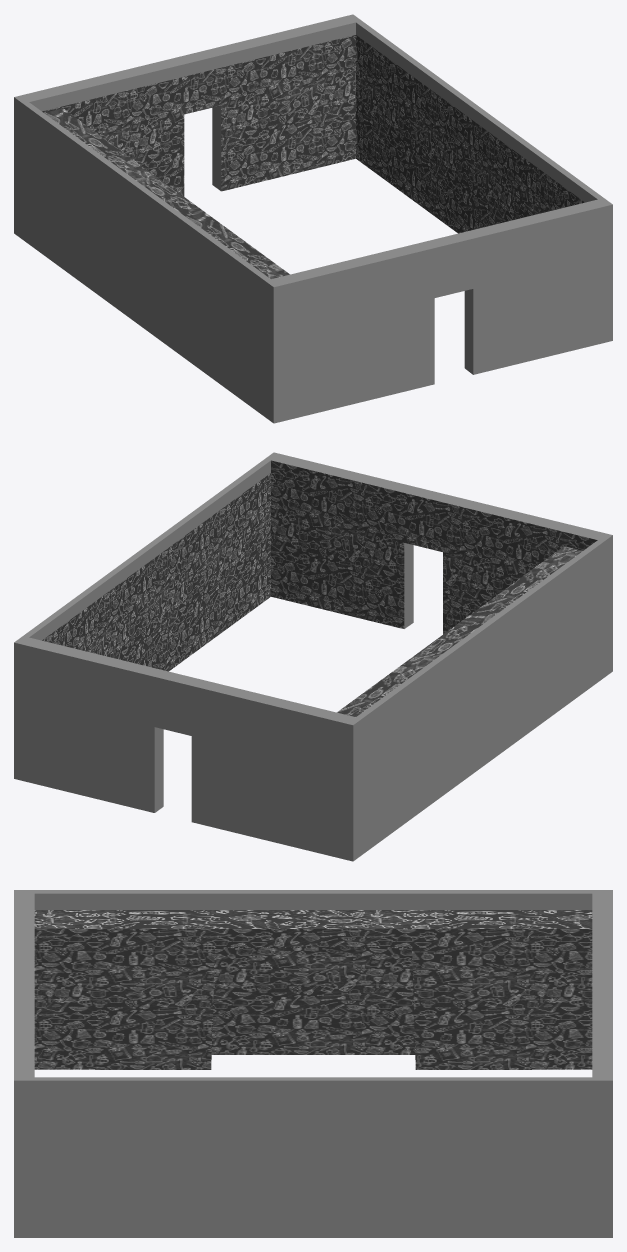
The model's file is room walls 1.FBX.
The picture shows the model from 3 angles, top to bottom: view 1: azimuth 30°, elevation 25°; view 2: azimuth 150°, elevation 25°; view 3: azimuth 270°, elevation 25°; orthographic projection. The views are drawn at different scales.
Parts seen in each view (by area): view 1: Walls, Box005; view 2: Walls, Box005; view 3: Walls, Box005.
Boxes of the visible parts, bbox=[...] form: Walls: bbox=[14, 14, 612, 423]; Box005: bbox=[44, 108, 289, 278]; Walls: bbox=[14, 452, 612, 861]; Box005: bbox=[337, 546, 582, 716]; Walls: bbox=[14, 890, 612, 1237]; Box005: bbox=[34, 910, 592, 1069].
Size of the model in its own units: 275 by 106 by 365.
6 materials, 1 textured.
